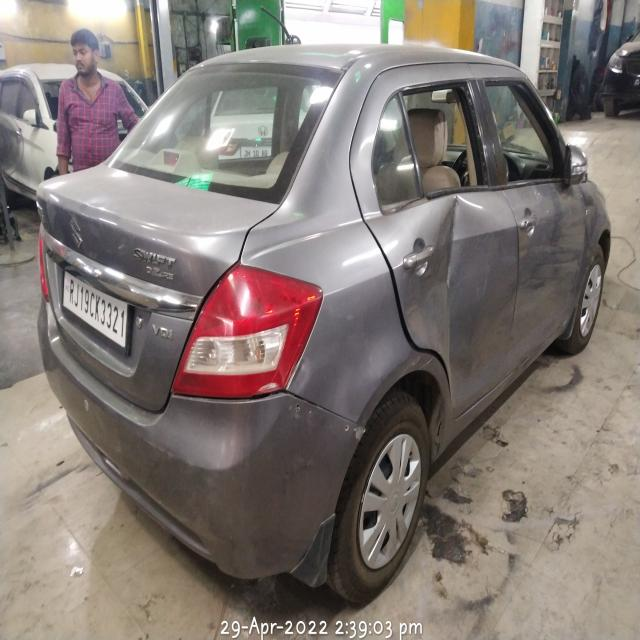damage: (417, 197, 488, 352), (283, 391, 363, 444)
